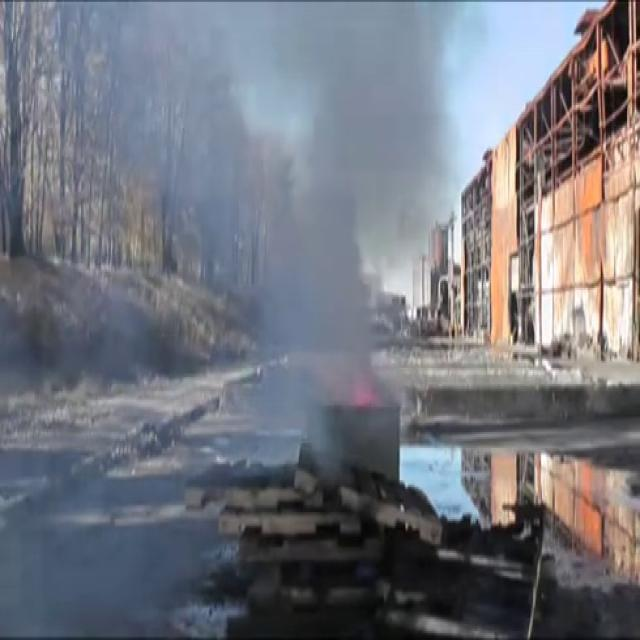Smoke: (61, 1, 461, 388)
